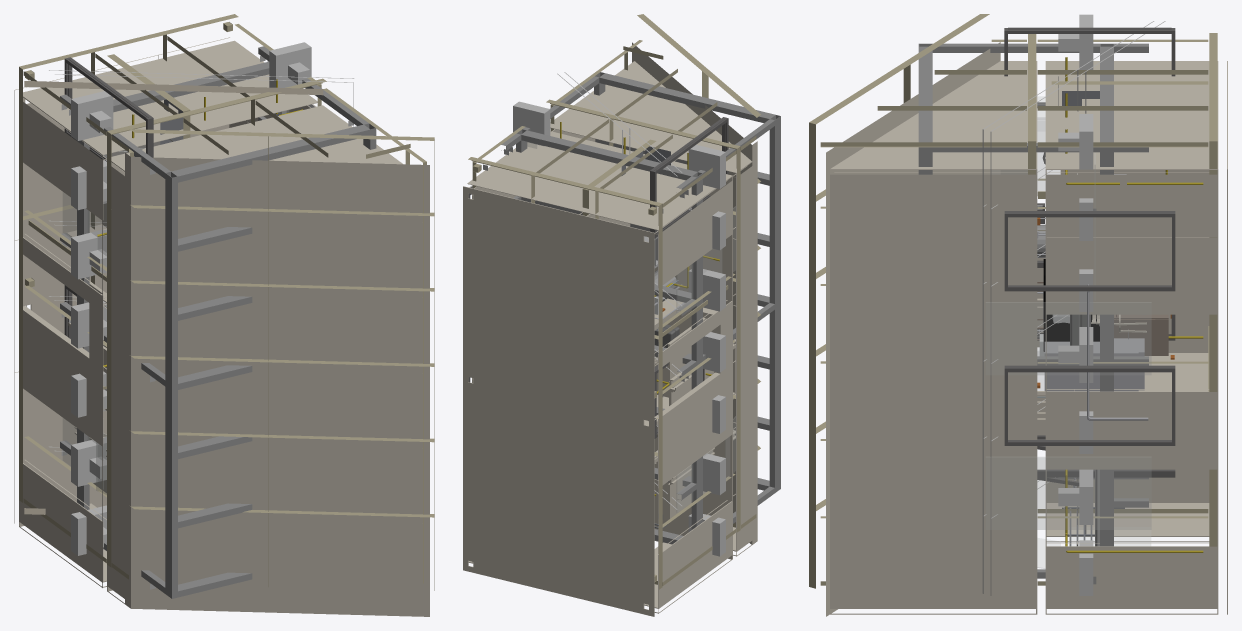
The model's file is casa-armable-corfo.glb.
3 views of the same model, side by side, from view 1: azimuth 30°, elevation 25°; view 2: azimuth 150°, elevation 25°; view 3: azimuth 270°, elevation 25° (orthographic). The views are drawn at different scales.
Parts seen in each view (by area): view 1: 4bf0999d-6e3b-40e8-ae64-2502ee2cba9d; view 2: 4bf0999d-6e3b-40e8-ae64-2502ee2cba9d; view 3: 4bf0999d-6e3b-40e8-ae64-2502ee2cba9d.
Boxes of the visible parts, bbox=[...] form: 4bf0999d-6e3b-40e8-ae64-2502ee2cba9d: bbox=[14, 14, 434, 616]; 4bf0999d-6e3b-40e8-ae64-2502ee2cba9d: bbox=[463, 14, 780, 616]; 4bf0999d-6e3b-40e8-ae64-2502ee2cba9d: bbox=[809, 14, 1227, 616].
Size of the model in its own units: 0.1103 by 0.197 by 0.152.
